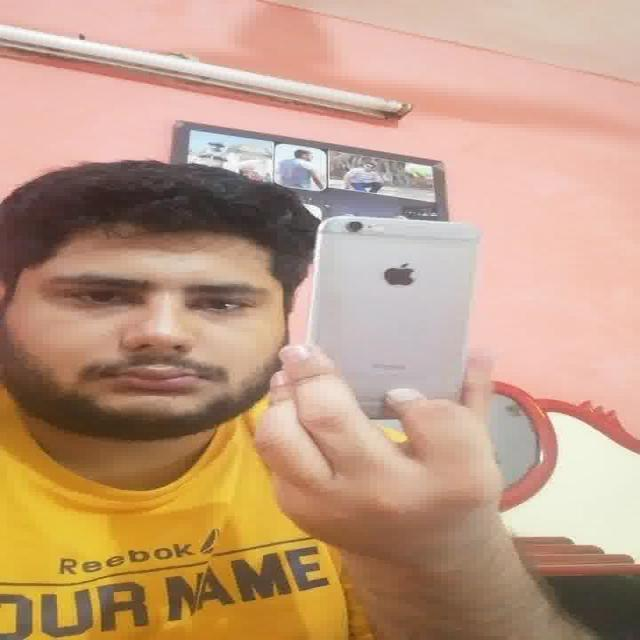Phone: (306, 212, 483, 411)
